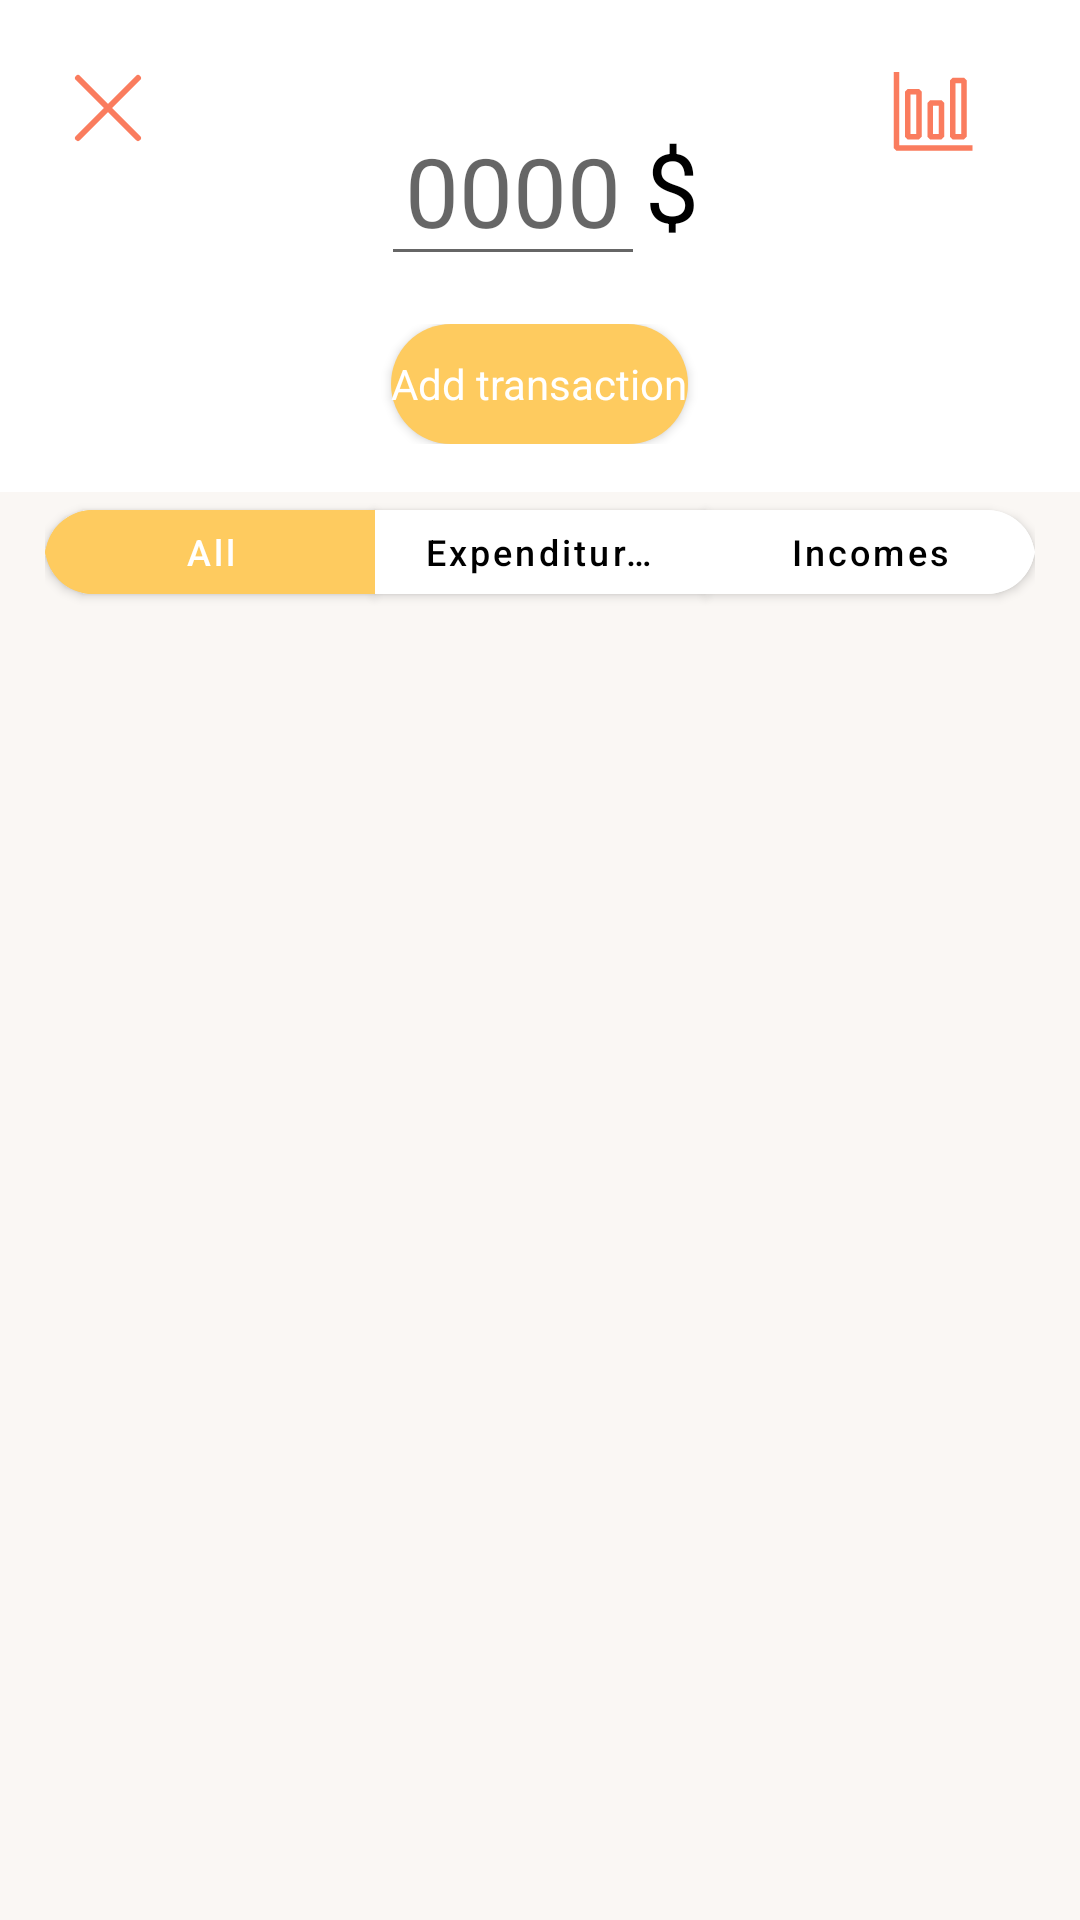

Icon bounding boxes for this 1080 x 1920 phone screenshot, format (x1, y1, x2, y2):
close: (75, 75, 141, 141)
graph: (893, 72, 973, 151)
